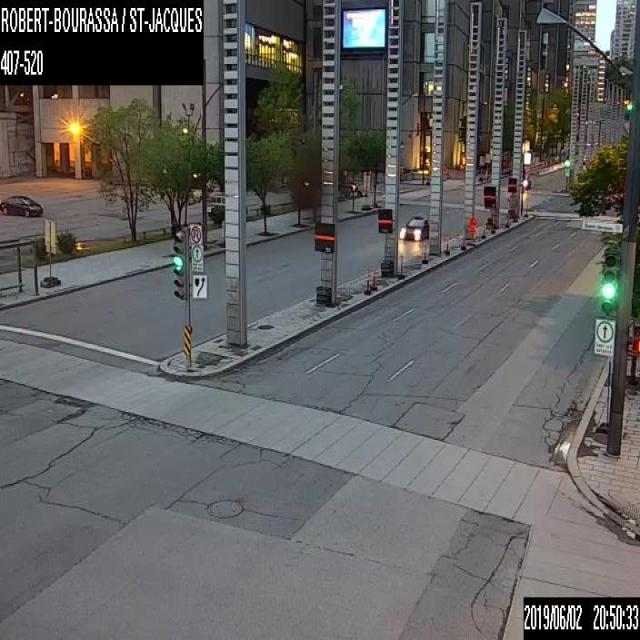construction: (467, 216, 478, 232), (398, 254, 404, 278), (421, 241, 427, 264), (363, 276, 370, 295), (370, 272, 377, 290), (459, 232, 465, 251), (444, 236, 449, 255), (504, 212, 509, 228), (481, 221, 484, 239)
vehicle: (0, 193, 44, 215), (399, 213, 428, 240), (523, 174, 530, 190)
